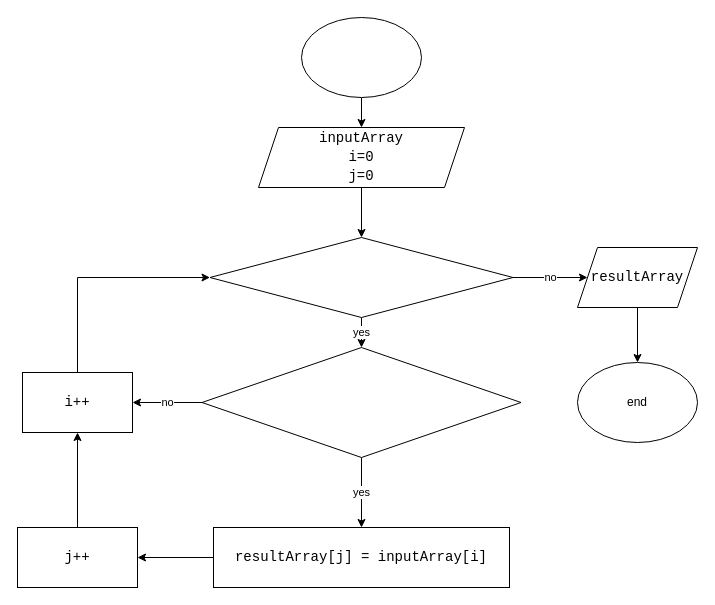
This 715x605 diagram has some shape labels left out. The shapes that lost their labels are listed below. From the top down, each one's box as (x1, y1, x2, y2) in pixels, then its label:
(300, 16, 422, 98): start
(209, 236, 513, 318): i < inputArray.Length
(201, 346, 521, 458): inputArray[i].Length <= 3
